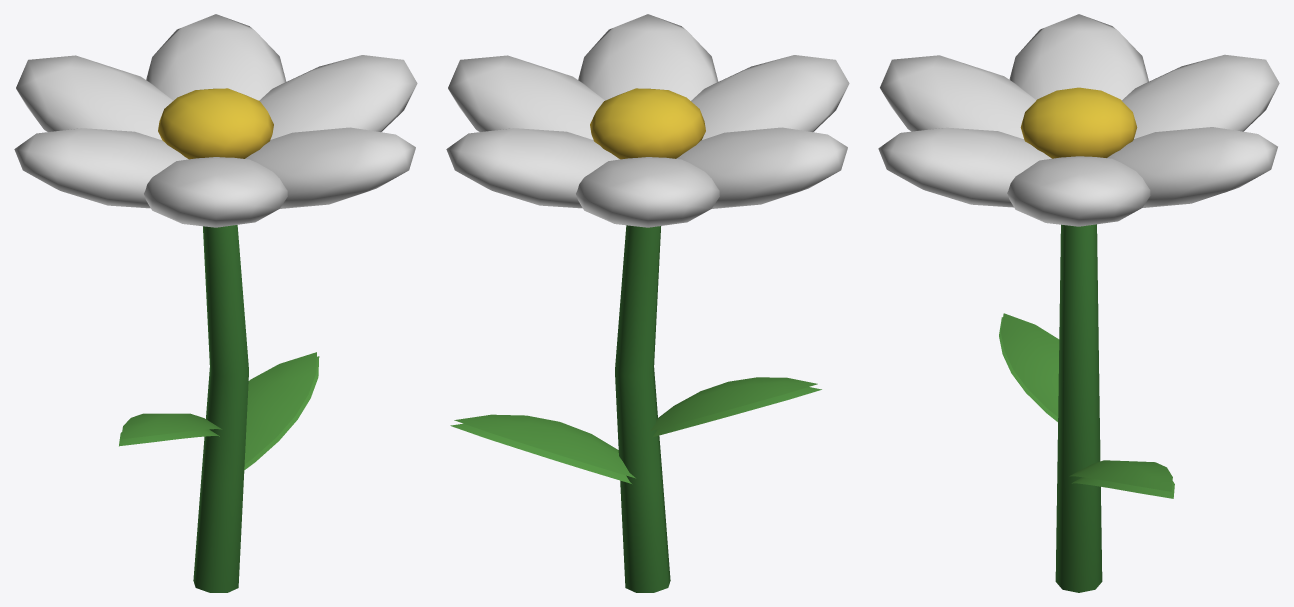
Rendered from flower-meadow-hd.glb.
The picture shows the model from 3 angles, left to right: view 1: azimuth 30°, elevation 25°; view 2: azimuth 150°, elevation 25°; view 3: azimuth 270°, elevation 25°; orthographic projection.
Parts seen in each view (by area): view 1: flower-meadow-hd; view 2: flower-meadow-hd; view 3: flower-meadow-hd.
Part boxes in pixels (x1,y1,x2,y2): flower-meadow-hd: (14, 14, 417, 592); flower-meadow-hd: (446, 14, 849, 592); flower-meadow-hd: (878, 14, 1279, 592).
Bounding box in the file's own units: 0.5711 × 0.692 × 0.5163.
